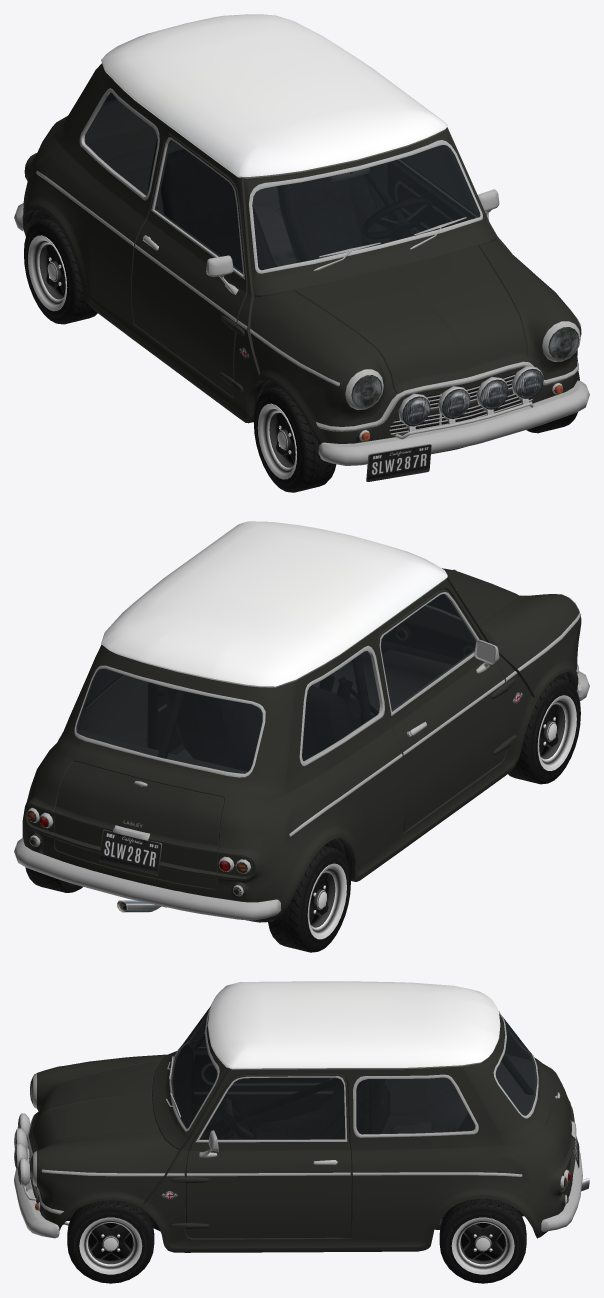
File: lasley-67-low-poly-model-126972.glb
The picture shows the model from 3 angles, top to bottom: view 1: azimuth 30°, elevation 25°; view 2: azimuth 150°, elevation 25°; view 3: azimuth 270°, elevation 25°; orthographic projection. The views are drawn at different scales.
Visible parts, largest first — view 1: body, wheel-front-right, wheel-back-right; view 2: body, wheel-back-right, wheel-front-right, wheel-back-left; view 3: body, wheel-back-left, wheel-front-left.
Boxes of the visible parts, x1=… form: body: x1=14, y1=14, x2=589, y2=481; wheel-front-right: x1=253, y1=386, x2=336, y2=492; wheel-back-right: x1=24, y1=217, x2=97, y2=324; body: x1=14, y1=521, x2=589, y2=922; wheel-back-right: x1=219, y1=845, x2=350, y2=952; wheel-front-right: x1=508, y1=678, x2=580, y2=784; wheel-back-left: x1=25, y1=816, x2=82, y2=892; body: x1=14, y1=981, x2=589, y2=1252; wheel-back-left: x1=439, y1=1171, x2=570, y2=1283; wheel-front-left: x1=67, y1=1200, x2=154, y2=1283.
Size of the model in its own units: 1.88 by 1.69 by 3.99.
8 materials, 7 textured.
